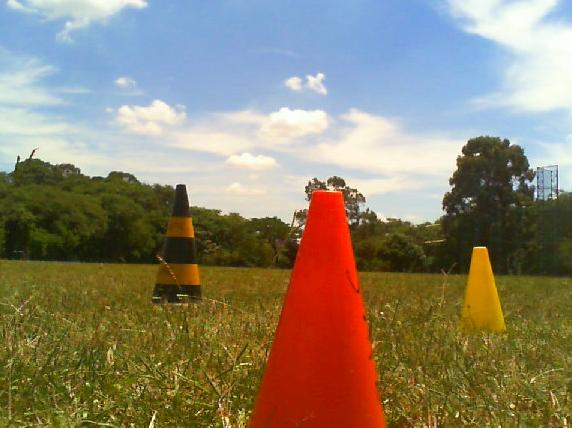0 cone: (235, 190, 389, 428), (150, 184, 202, 305), (459, 247, 507, 335)
